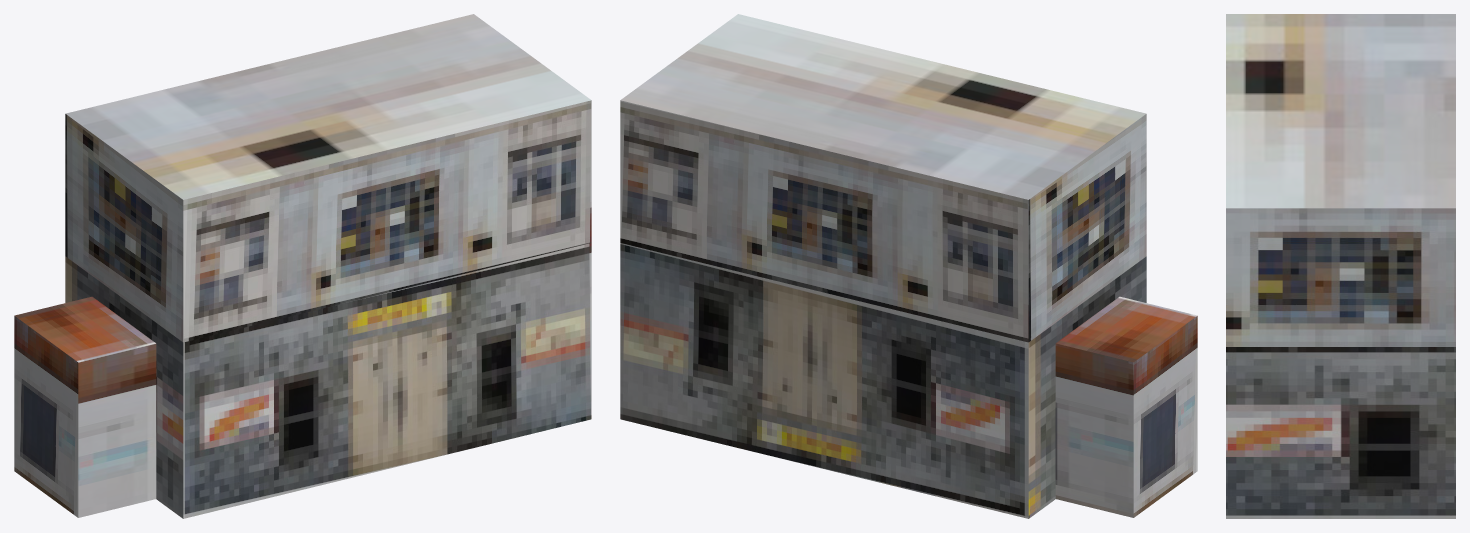
Rendered from house 14blend.fbx.
The picture shows the model from 3 angles, left to right: view 1: azimuth 30°, elevation 25°; view 2: azimuth 150°, elevation 25°; view 3: azimuth 270°, elevation 25°; orthographic projection. The views are drawn at different scales.
Visible parts, largest first — view 1: Cube; view 2: Cube; view 3: Cube.
Part boxes in pixels (bbox=[...]): Cube: bbox=[14, 14, 591, 518]; Cube: bbox=[620, 14, 1197, 518]; Cube: bbox=[1226, 14, 1455, 518].
Size of the model in its own units: 1980 by 1241 by 831.
